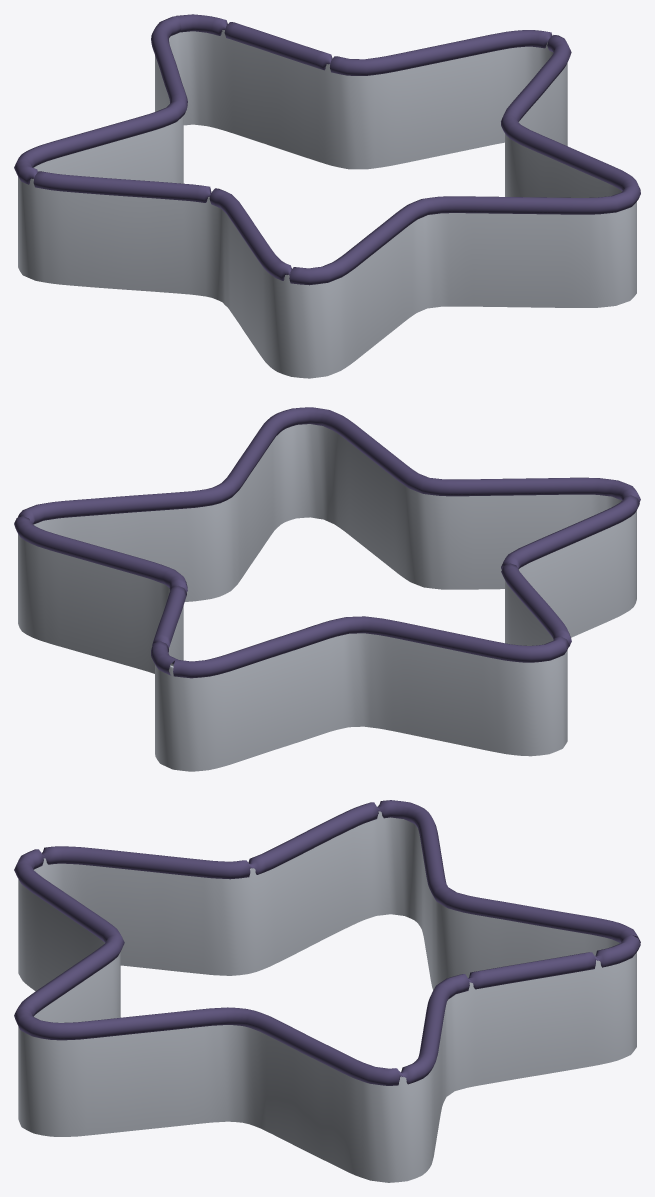
Rendered from StarCutter.obj.
3 renders of one model, top to bottom at view 1: azimuth 30°, elevation 25°; view 2: azimuth 150°, elevation 25°; view 3: azimuth 270°, elevation 25°, orthographic. The views are drawn at different scales.
Visible parts, largest first — view 1: Steel, Rim; view 2: Steel, Rim; view 3: Steel, Rim.
Part boxes in pixels (x1,y1,x2,y2): Steel: (18, 30, 636, 378); Rim: (14, 14, 640, 285); Steel: (18, 424, 636, 771); Rim: (14, 407, 640, 678); Steel: (18, 811, 636, 1182); Rim: (14, 800, 640, 1085).
Bounding box in the file's own units: 9.18 × 1.73 × 8.79.
